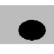correct: (14, 19, 50, 41)
